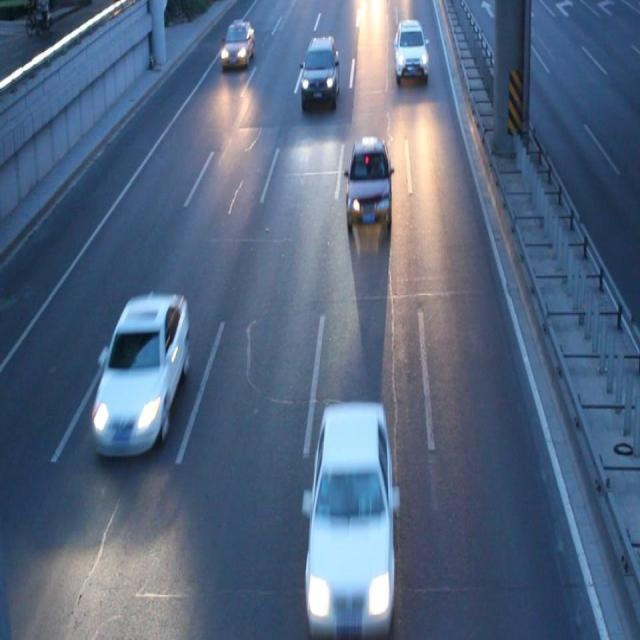car: (302, 406, 398, 604), (90, 295, 188, 455), (344, 139, 393, 231), (301, 39, 339, 110), (392, 20, 429, 83), (221, 21, 254, 67)
